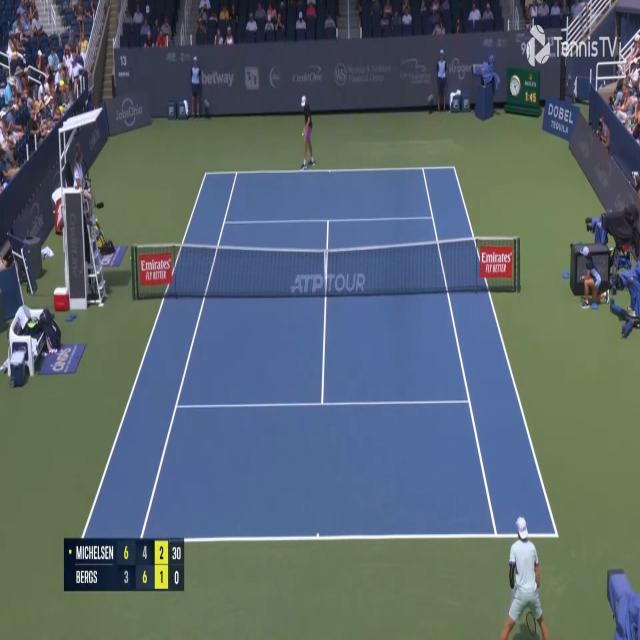tennis-player: (493, 512, 552, 638), (298, 92, 317, 172)
